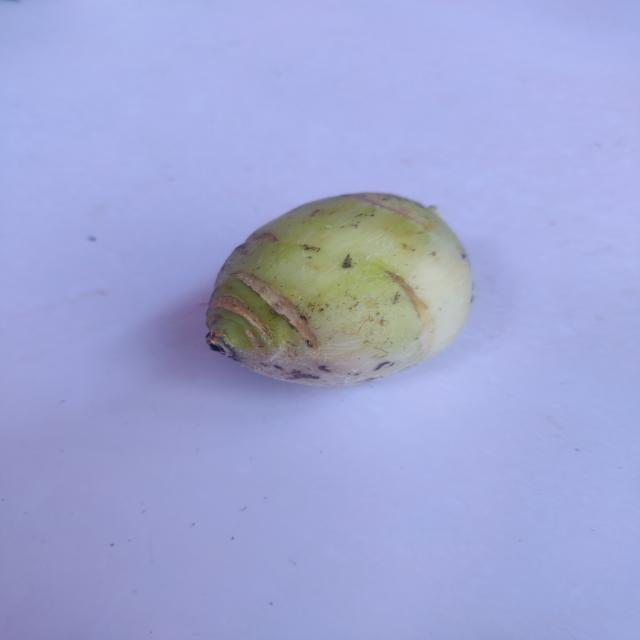Turnip: (184, 181, 486, 398)
